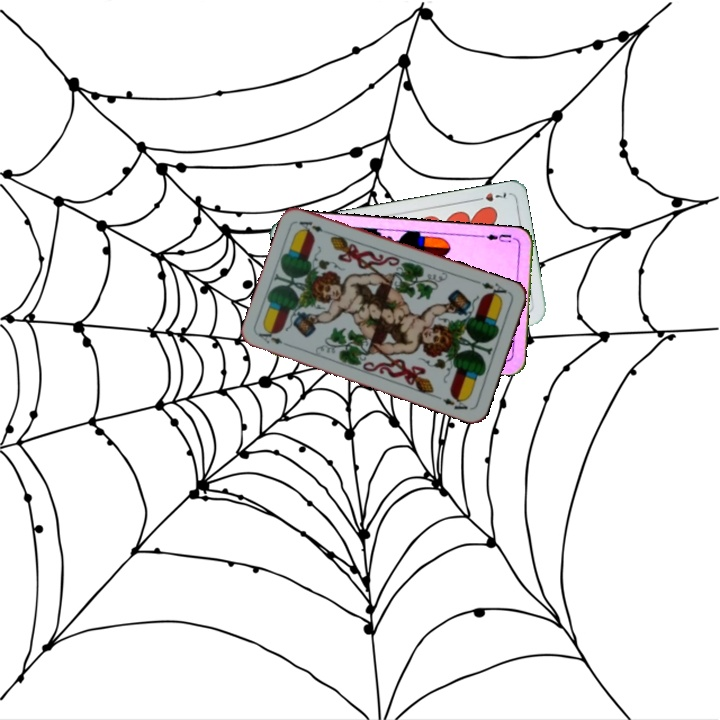EA: (473, 276, 512, 301), (255, 325, 294, 349)
EU: (482, 229, 518, 245)
H7: (470, 188, 509, 204)
